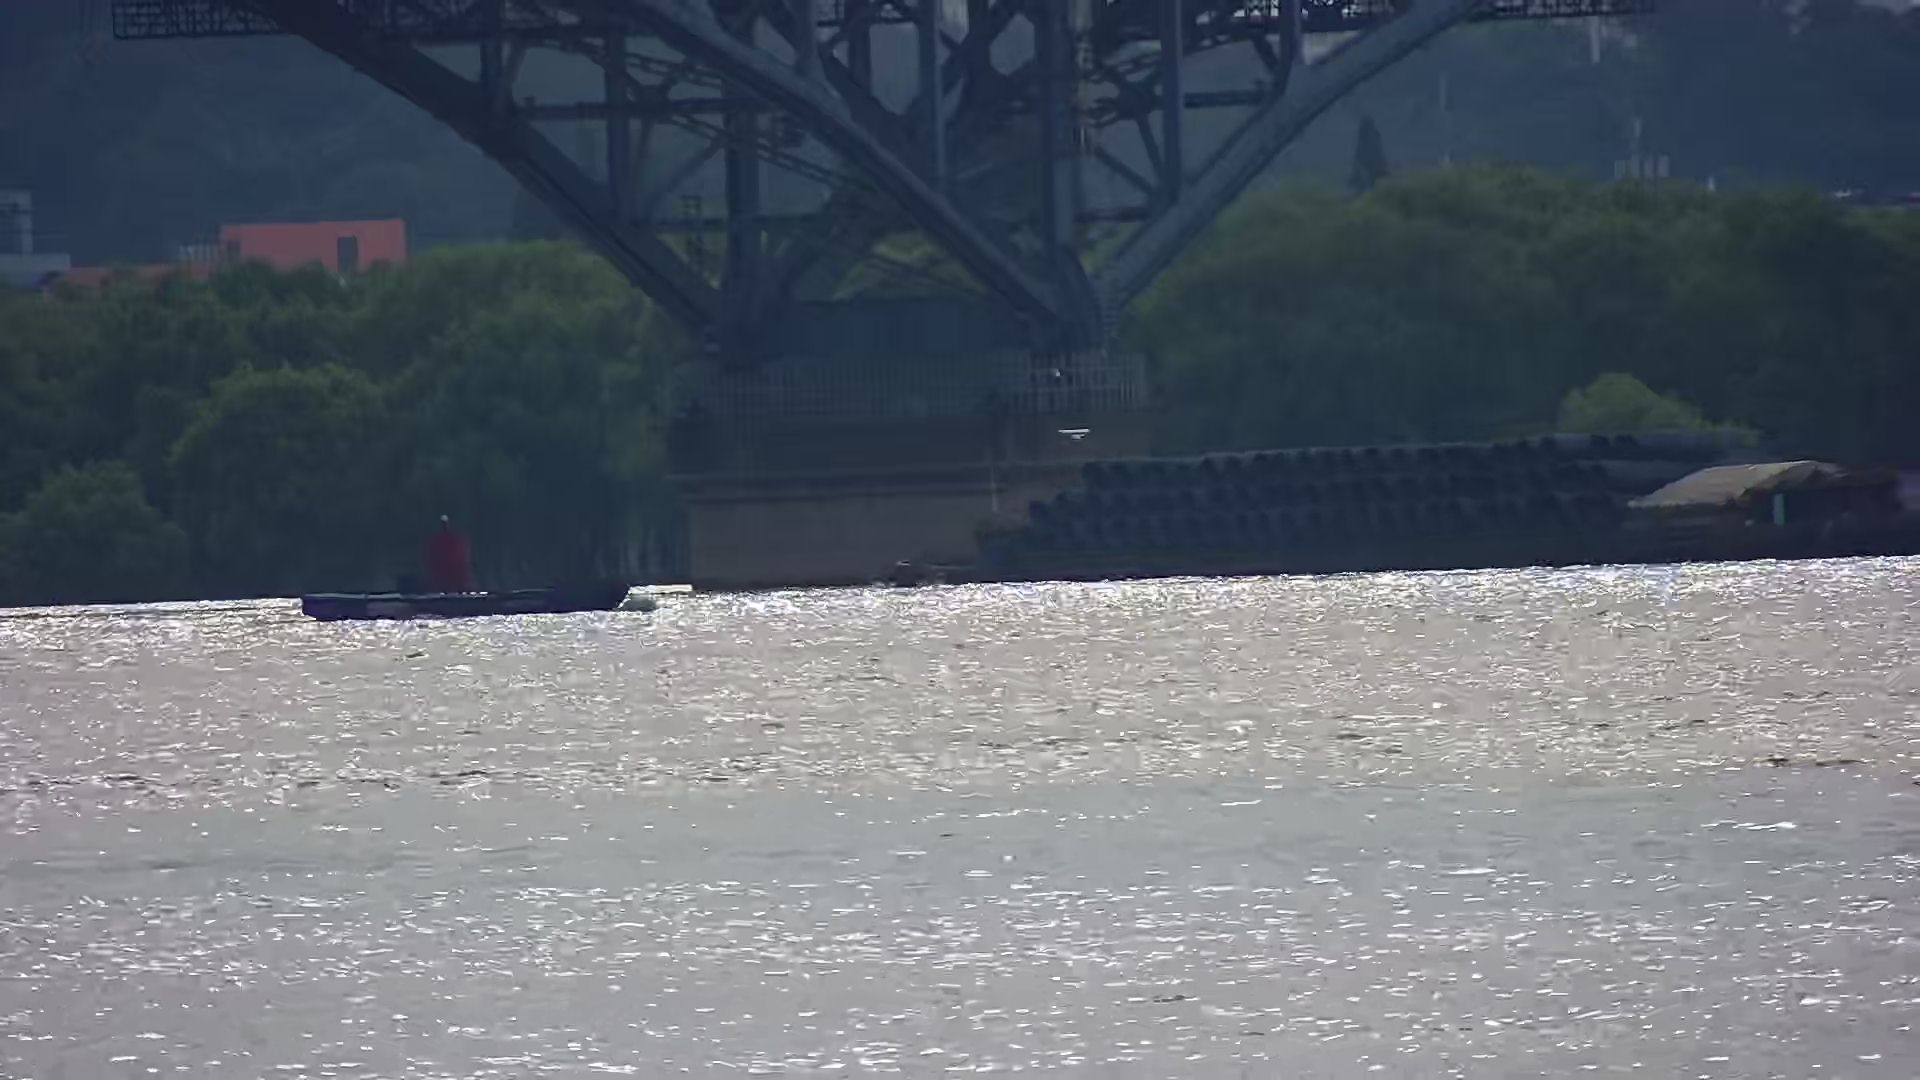boat: (280, 504, 650, 644)
bridge: (94, 1, 1665, 589)
ship: (868, 433, 1920, 597)
